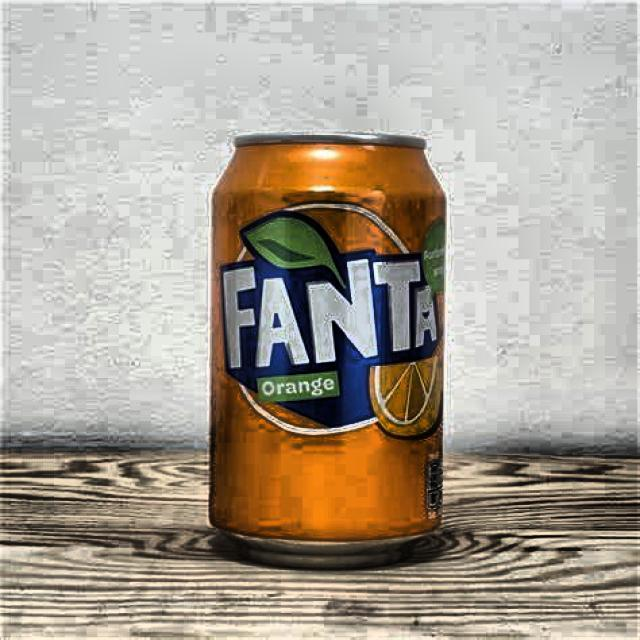Cans: (194, 115, 480, 583)
